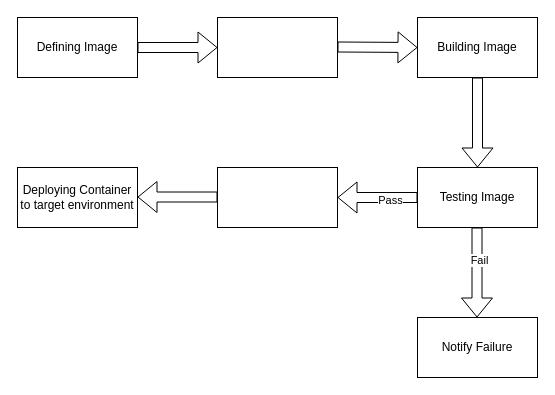
The diagram is 555 pixels wide and 395 high, and some of its shapes have lost their labels. The shapes that lost their labels are listed below. From the top down, each one's centre as x and y in pixels, then its label:
At point 277,47: "Creating Image".
At point 277,197: "Pubishing Image to registry".
